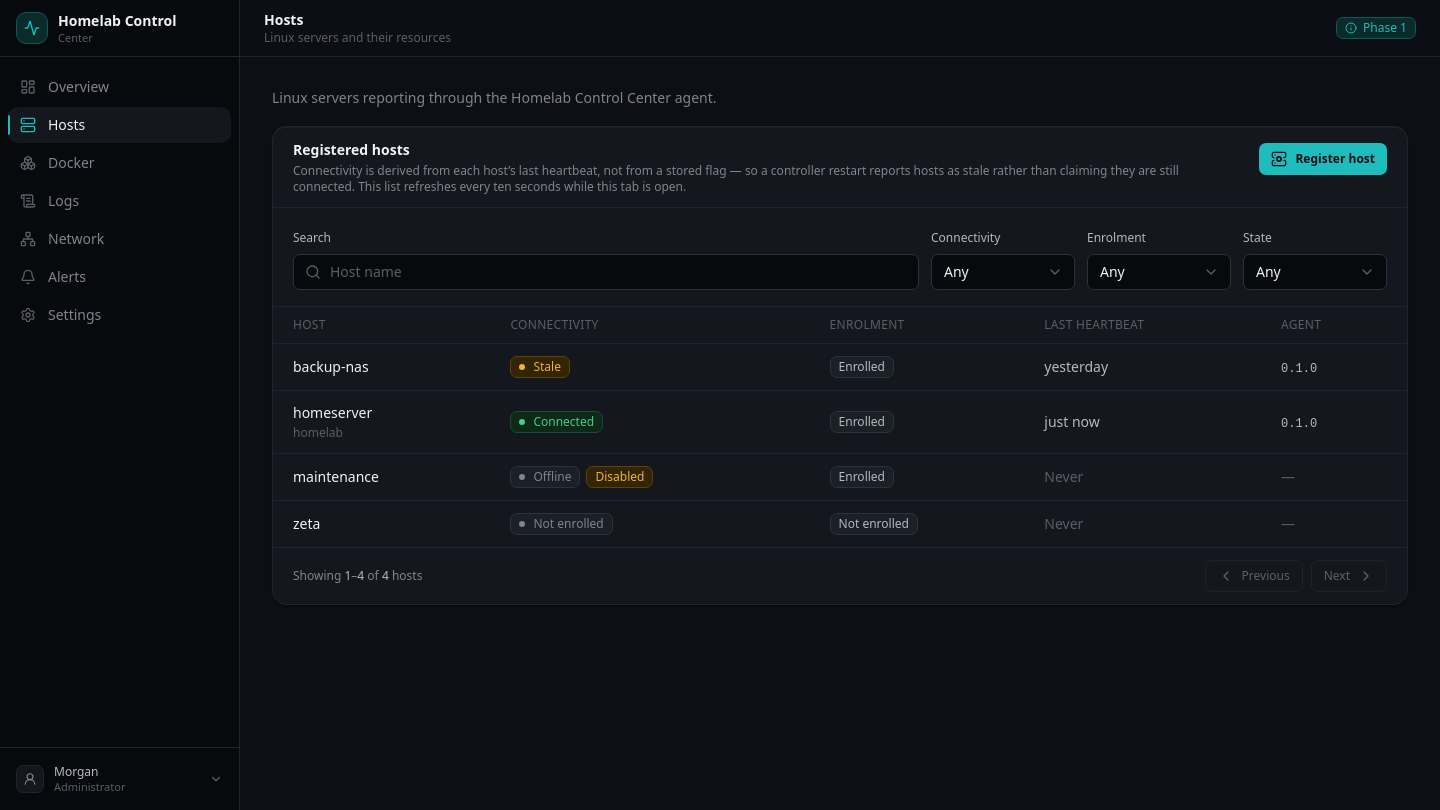
the host list › offers to clear the filters when nothing matches
This screenshot has width=1440, height=810.
Expected: the table named "registered hosts" is shown, [273,306,1407,547]
Type "nothing-matches-this" into the search field labelled "Search" at (606, 272), box [293,254,919,290]
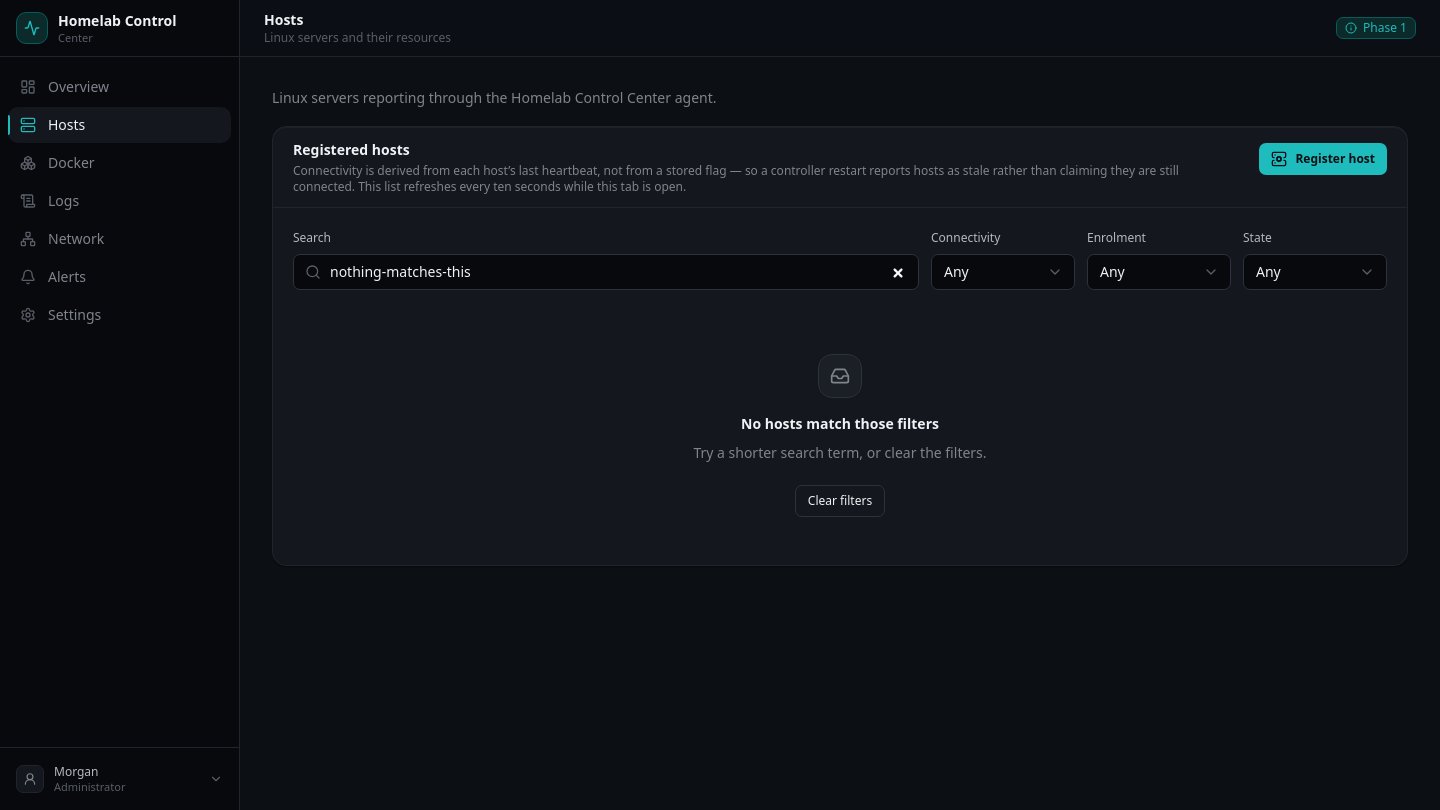
Now the heading "No hosts match those filters" is shown, box [741,414,939,434]
Click the button "Clear filters" at (840, 500), box [795,484,885,516]
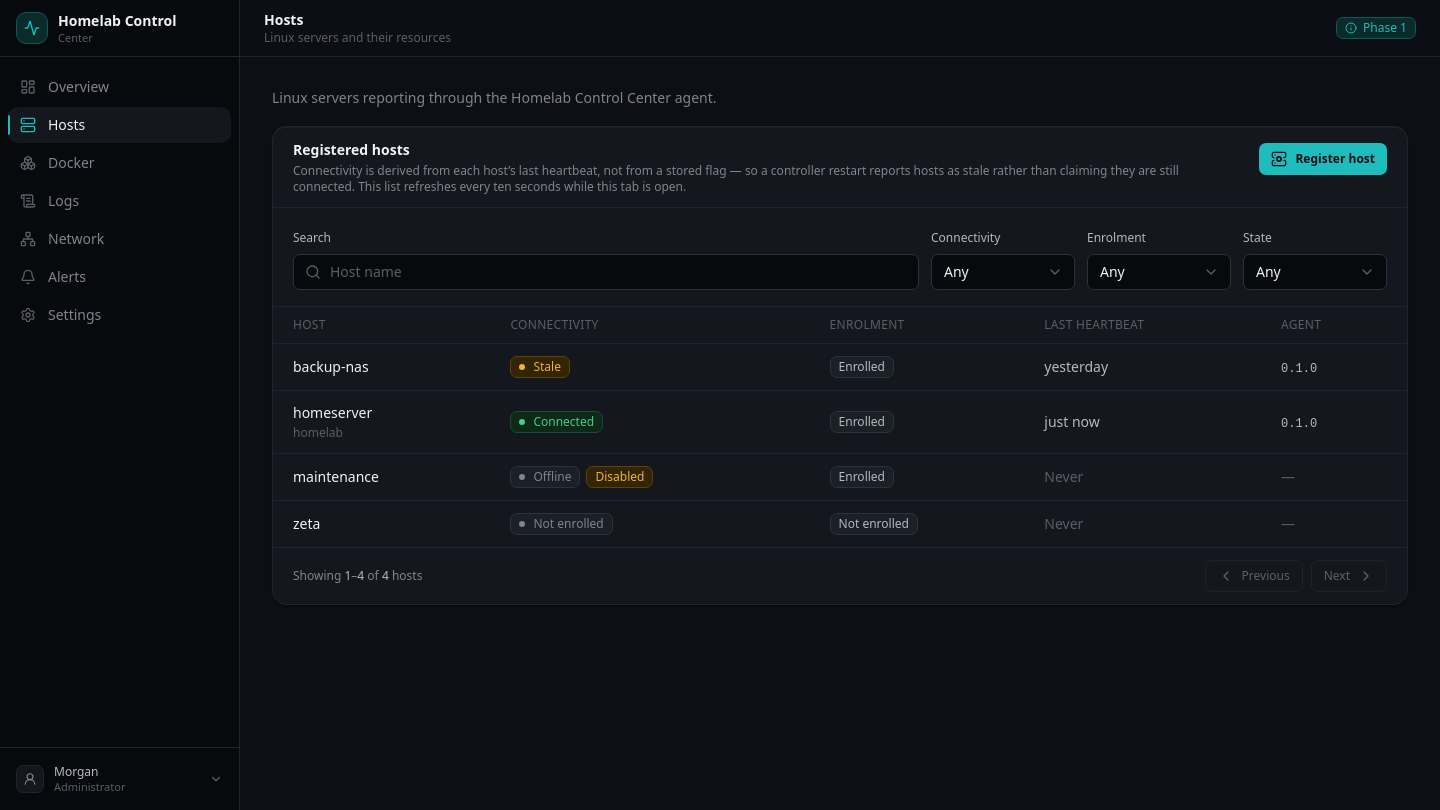
Now the table named "registered hosts" is shown, box [273,306,1407,547]
